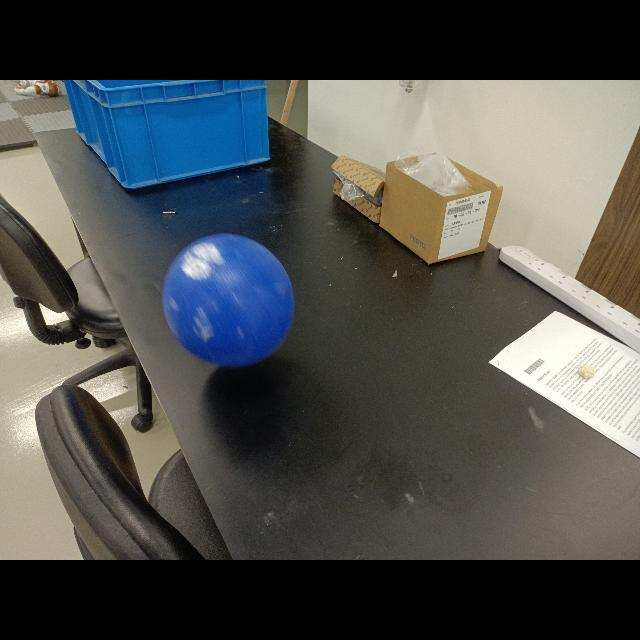B: (161, 233, 295, 365)
